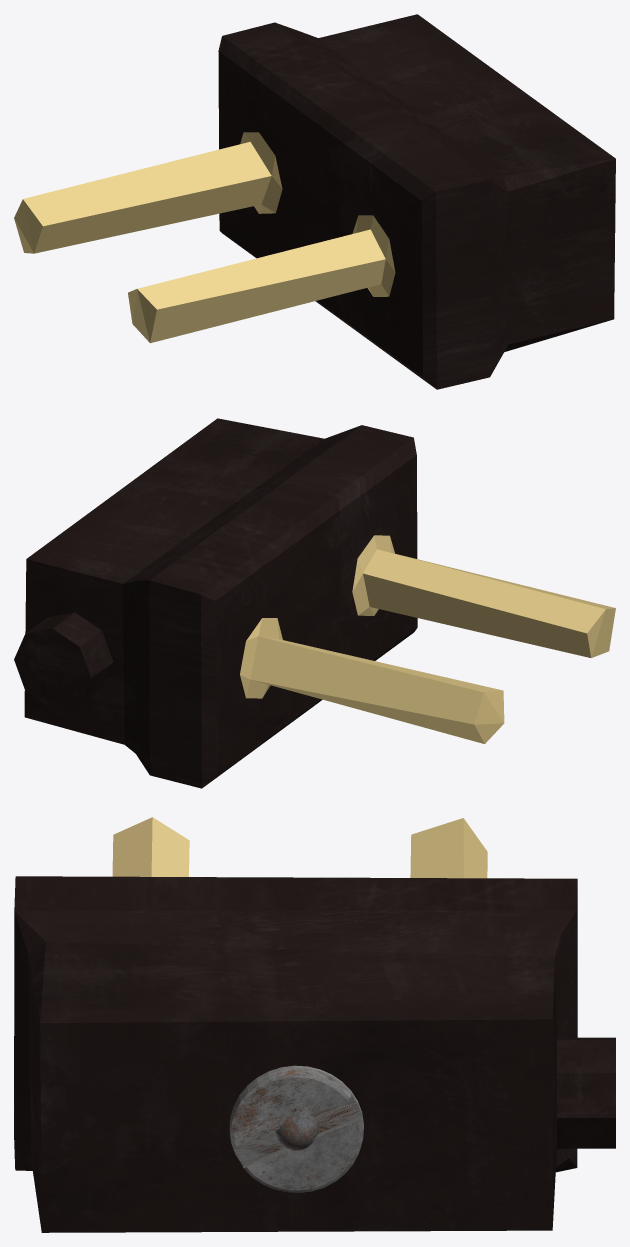
Rendered from PlugBoardPlug3.fbx.
3 views of the same model, one above another, from view 1: azimuth 30°, elevation 25°; view 2: azimuth 150°, elevation 25°; view 3: azimuth 270°, elevation 25° (orthographic). The views are drawn at different scales.
Parts seen in each view (by area): view 1: PlugBoardPlug; view 2: PlugBoardPlug; view 3: PlugBoardPlug.
Part boxes in pixels (bbox=[...]): PlugBoardPlug: bbox=[14, 14, 615, 389]; PlugBoardPlug: bbox=[14, 418, 615, 788]; PlugBoardPlug: bbox=[14, 817, 615, 1232].
Bounding box in the file's own units: 300 × 125 × 263.
